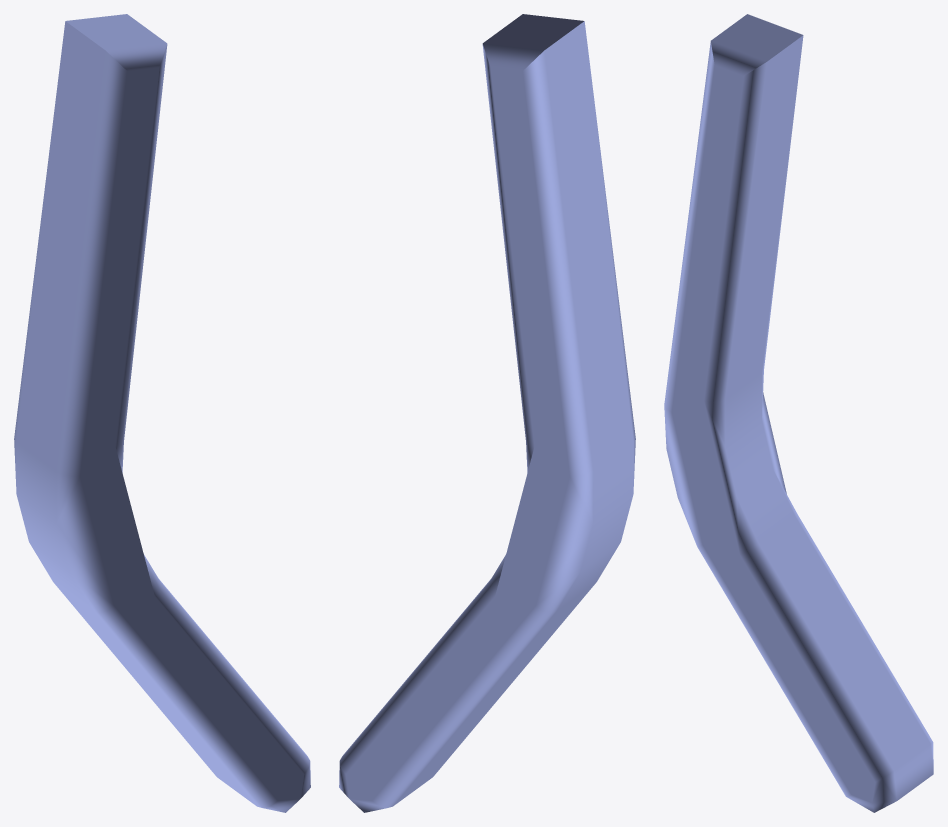
The model's file is Copie de piece gauche 2^Copie de Ass piece plan 2_Horloge Comtoise Verge - Sonnerie.obj.
3 renders of one model, left to right at view 1: azimuth 30°, elevation 25°; view 2: azimuth 150°, elevation 25°; view 3: azimuth 330°, elevation 25°, orthographic. The views are drawn at different scales.
Parts seen in each view (by area): view 1: Face_8, Face_1, Face_4, Face_17, Face_22, Face_18, Face_16, Face_21, Face_14, Face_2, Face_6, Face_3; view 2: Face_7, Face_1, Face_3, Face_11, Face_22, Face_12, Face_10, Face_21, Face_13, Face_2, Face_5, Face_4; view 3: Face_8, Face_20, Face_23, Face_14, Face_19, Face_16, Face_4, Face_2, Face_15, Face_17, Face_18, Face_24 (+4 smaller).
Boxes of the visible parts, x1,y1,x2,y2 form: Face_8: [80, 67, 303, 800]; Face_1: [16, 21, 105, 471]; Face_4: [56, 51, 127, 476]; Face_17: [94, 606, 277, 807]; Face_22: [16, 442, 92, 610]; Face_18: [56, 472, 113, 612]; Face_16: [155, 579, 309, 773]; Face_21: [54, 583, 256, 805]; Face_14: [115, 44, 167, 446]; Face_2: [66, 14, 166, 50]; Face_6: [106, 43, 166, 70]; Face_3: [14, 30, 64, 441]; Face_7: [346, 67, 569, 800]; Face_1: [544, 21, 633, 471]; Face_3: [522, 51, 593, 476]; Face_11: [372, 606, 555, 807]; Face_22: [557, 442, 633, 610]; Face_12: [536, 472, 593, 612]; Face_10: [340, 579, 494, 773]; Face_21: [393, 583, 595, 805]; Face_13: [482, 44, 534, 446]; Face_2: [483, 14, 583, 50]; Face_5: [483, 43, 543, 70]; Face_4: [585, 30, 635, 441]; Face_8: [672, 65, 875, 802]; Face_20: [759, 517, 930, 770]; Face_23: [725, 35, 803, 399]; Face_14: [704, 62, 766, 402]; Face_19: [725, 373, 794, 542]; Face_16: [740, 543, 893, 781]; Face_4: [664, 41, 714, 411]; Face_2: [711, 14, 802, 61]; Face_15: [704, 400, 758, 554]; Face_17: [697, 545, 851, 796]; Face_18: [664, 406, 702, 546]; Face_24: [894, 744, 933, 800].
Size of the model in its own units: 0.0051 by 0.0155 by 0.002.
